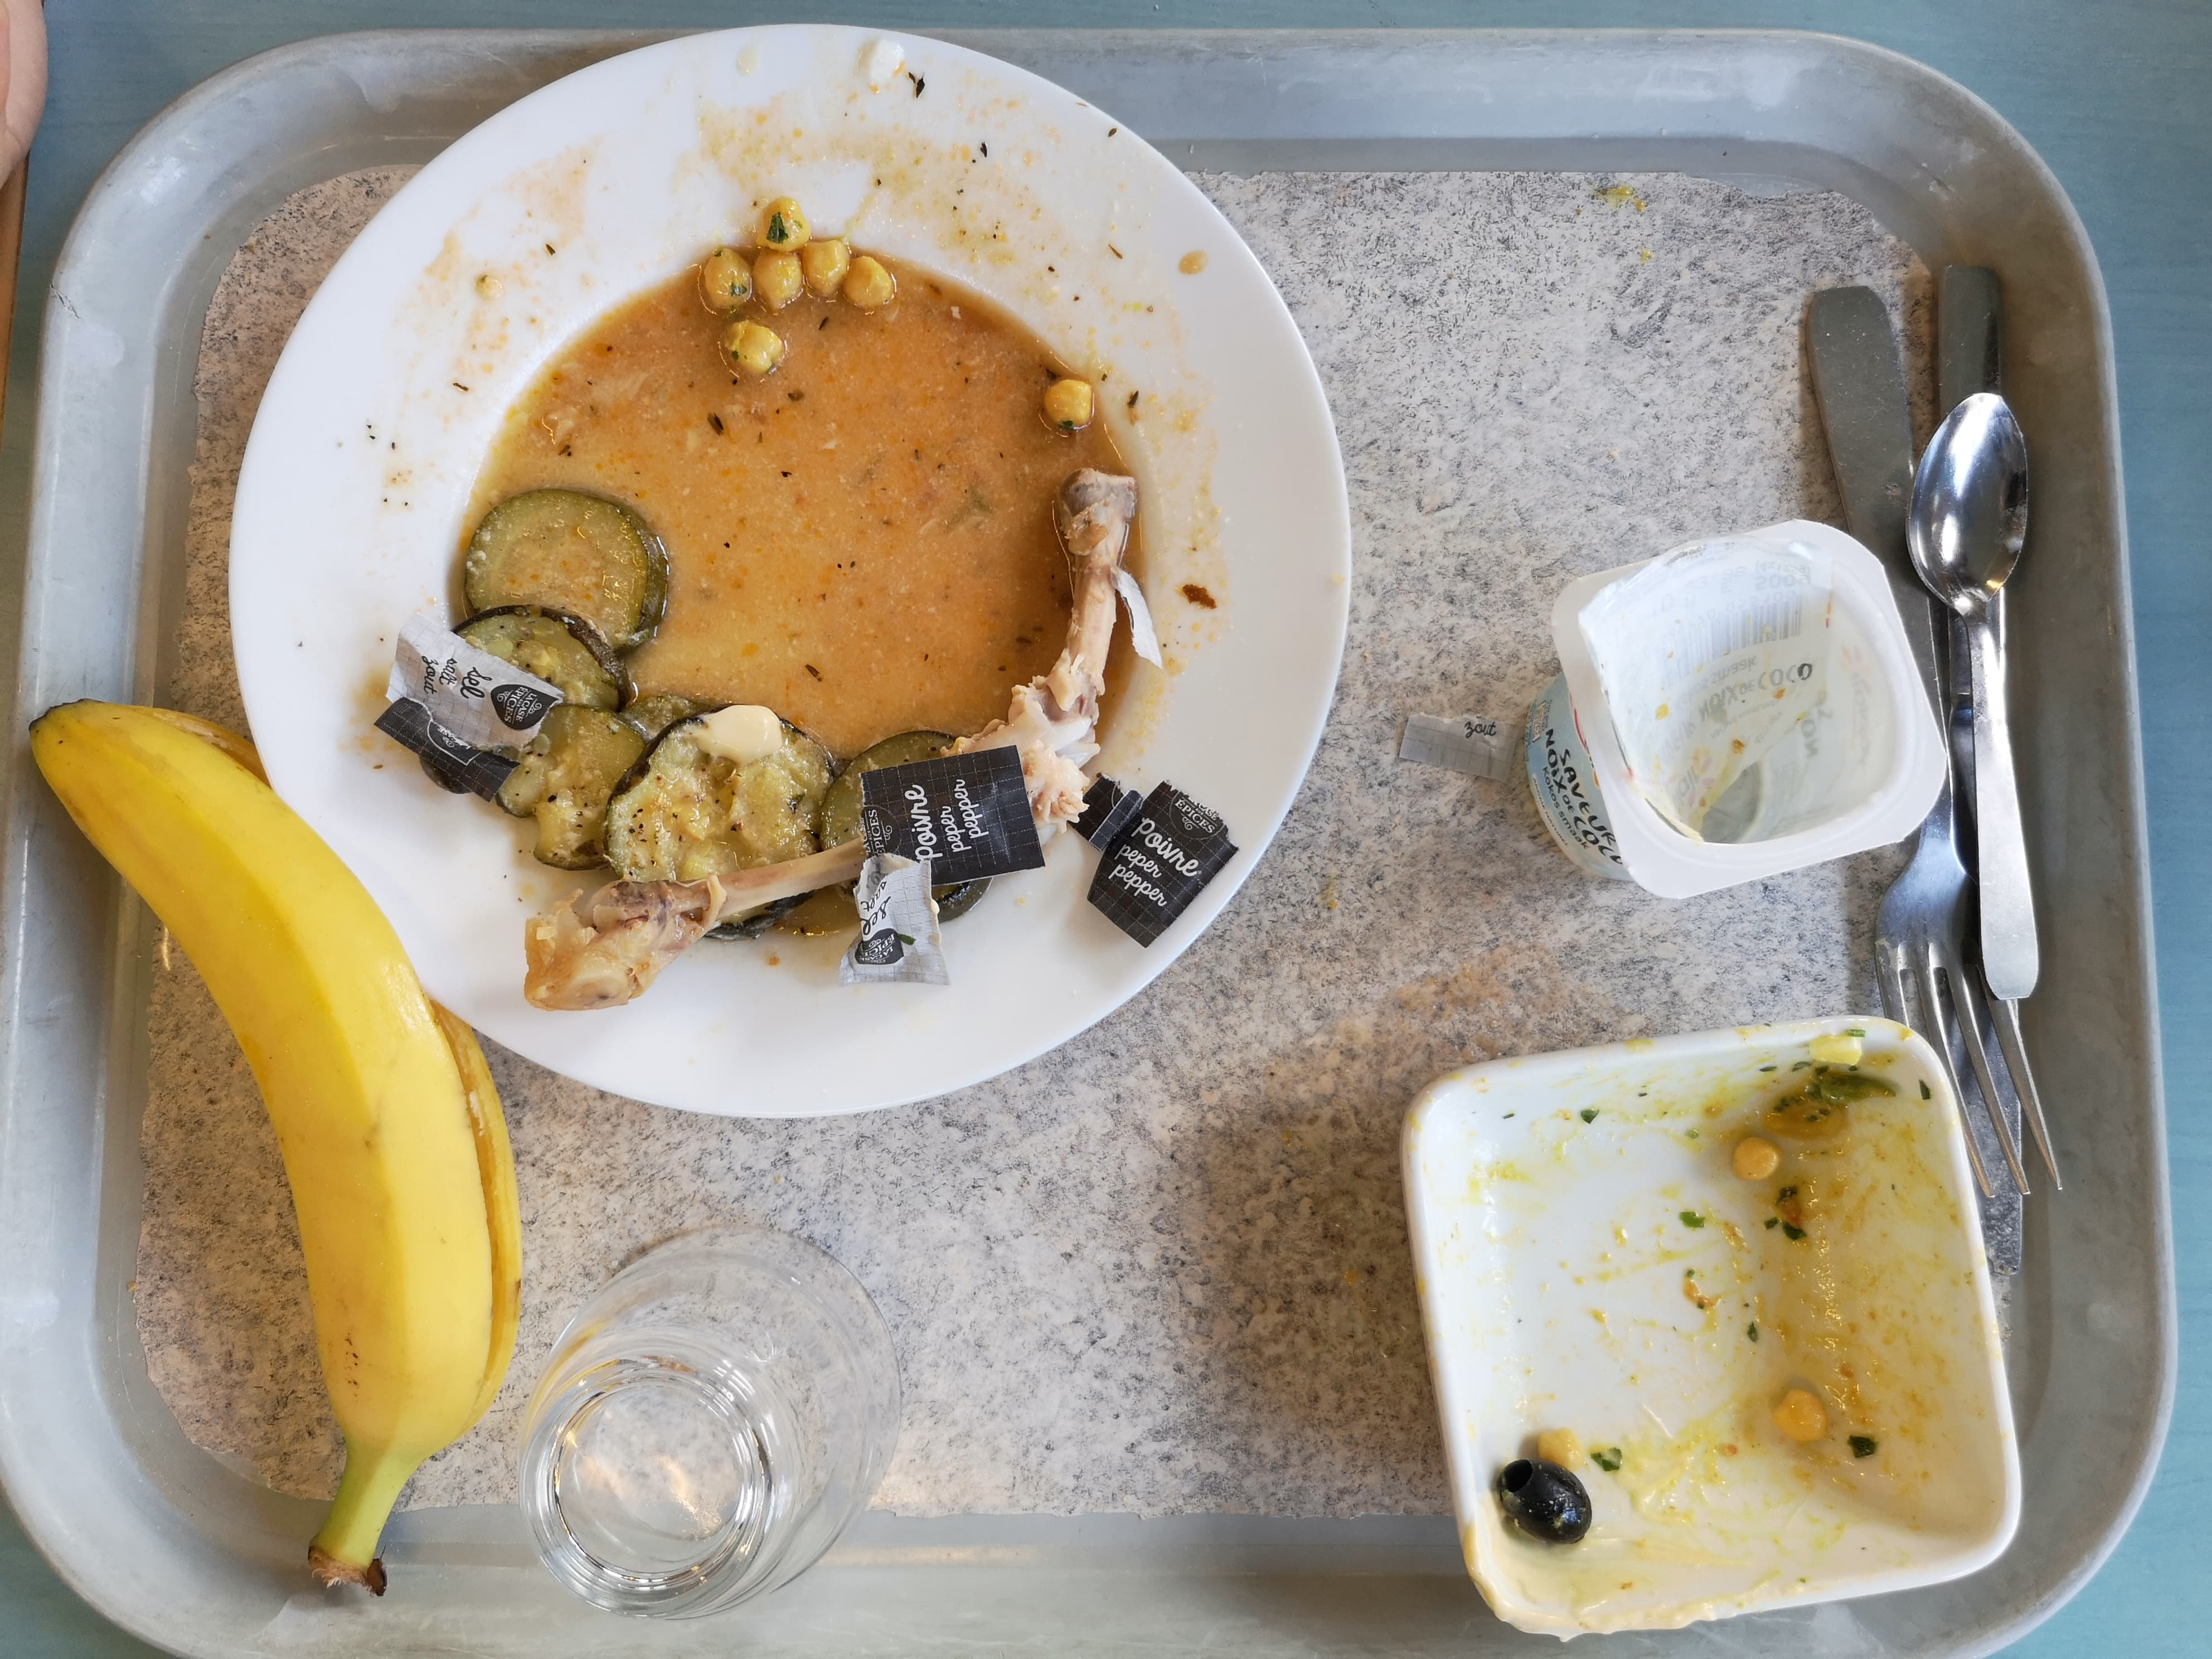orga: (12, 697, 491, 1596), (1482, 1406, 1838, 1556)
trash: (1467, 519, 1959, 931), (833, 741, 1033, 960), (354, 624, 570, 805), (1092, 789, 1247, 943)
